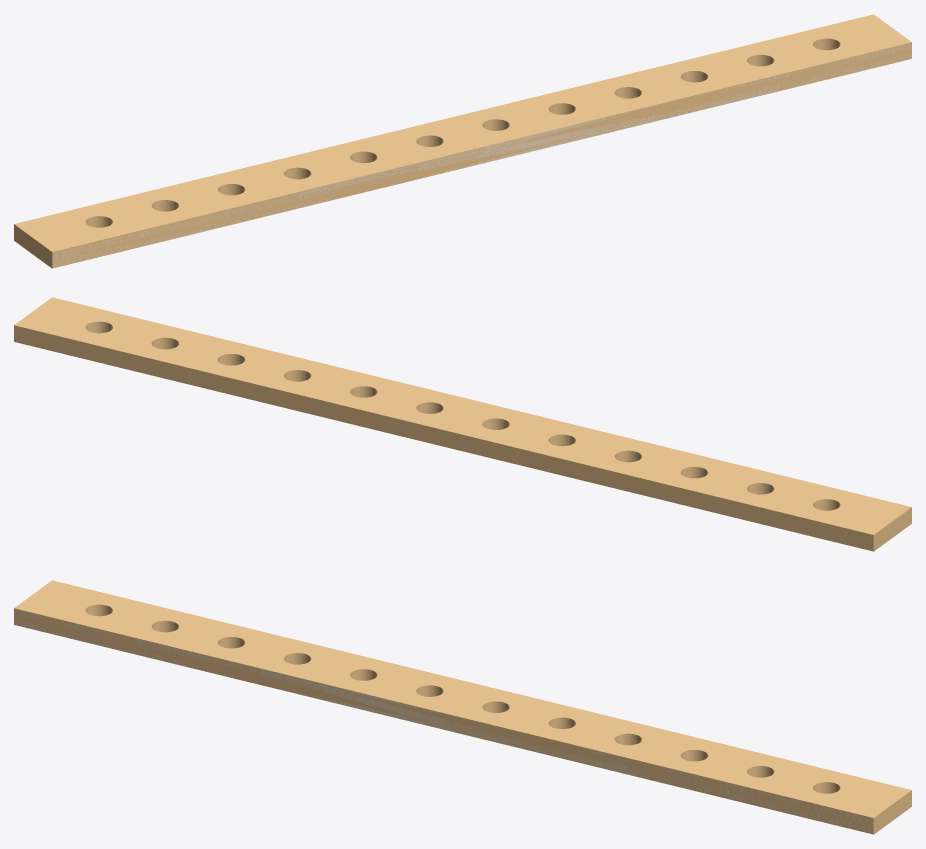
The model's file is mag.dae.
3 views of the same model, one above another, from view 1: azimuth 30°, elevation 25°; view 2: azimuth 150°, elevation 25°; view 3: azimuth 330°, elevation 25° (orthographic).
Parts seen in each view (by area): view 1: instance_0.003; view 2: instance_0.003; view 3: instance_0.003.
Boxes of the visible parts, x1=… form: instance_0.003: x1=14, y1=14, x2=911, y2=268; instance_0.003: x1=14, y1=297, x2=911, y2=551; instance_0.003: x1=14, y1=580, x2=911, y2=834.
Bounding box in the file's own units: 3.25 × 0.25 × 0.06.
